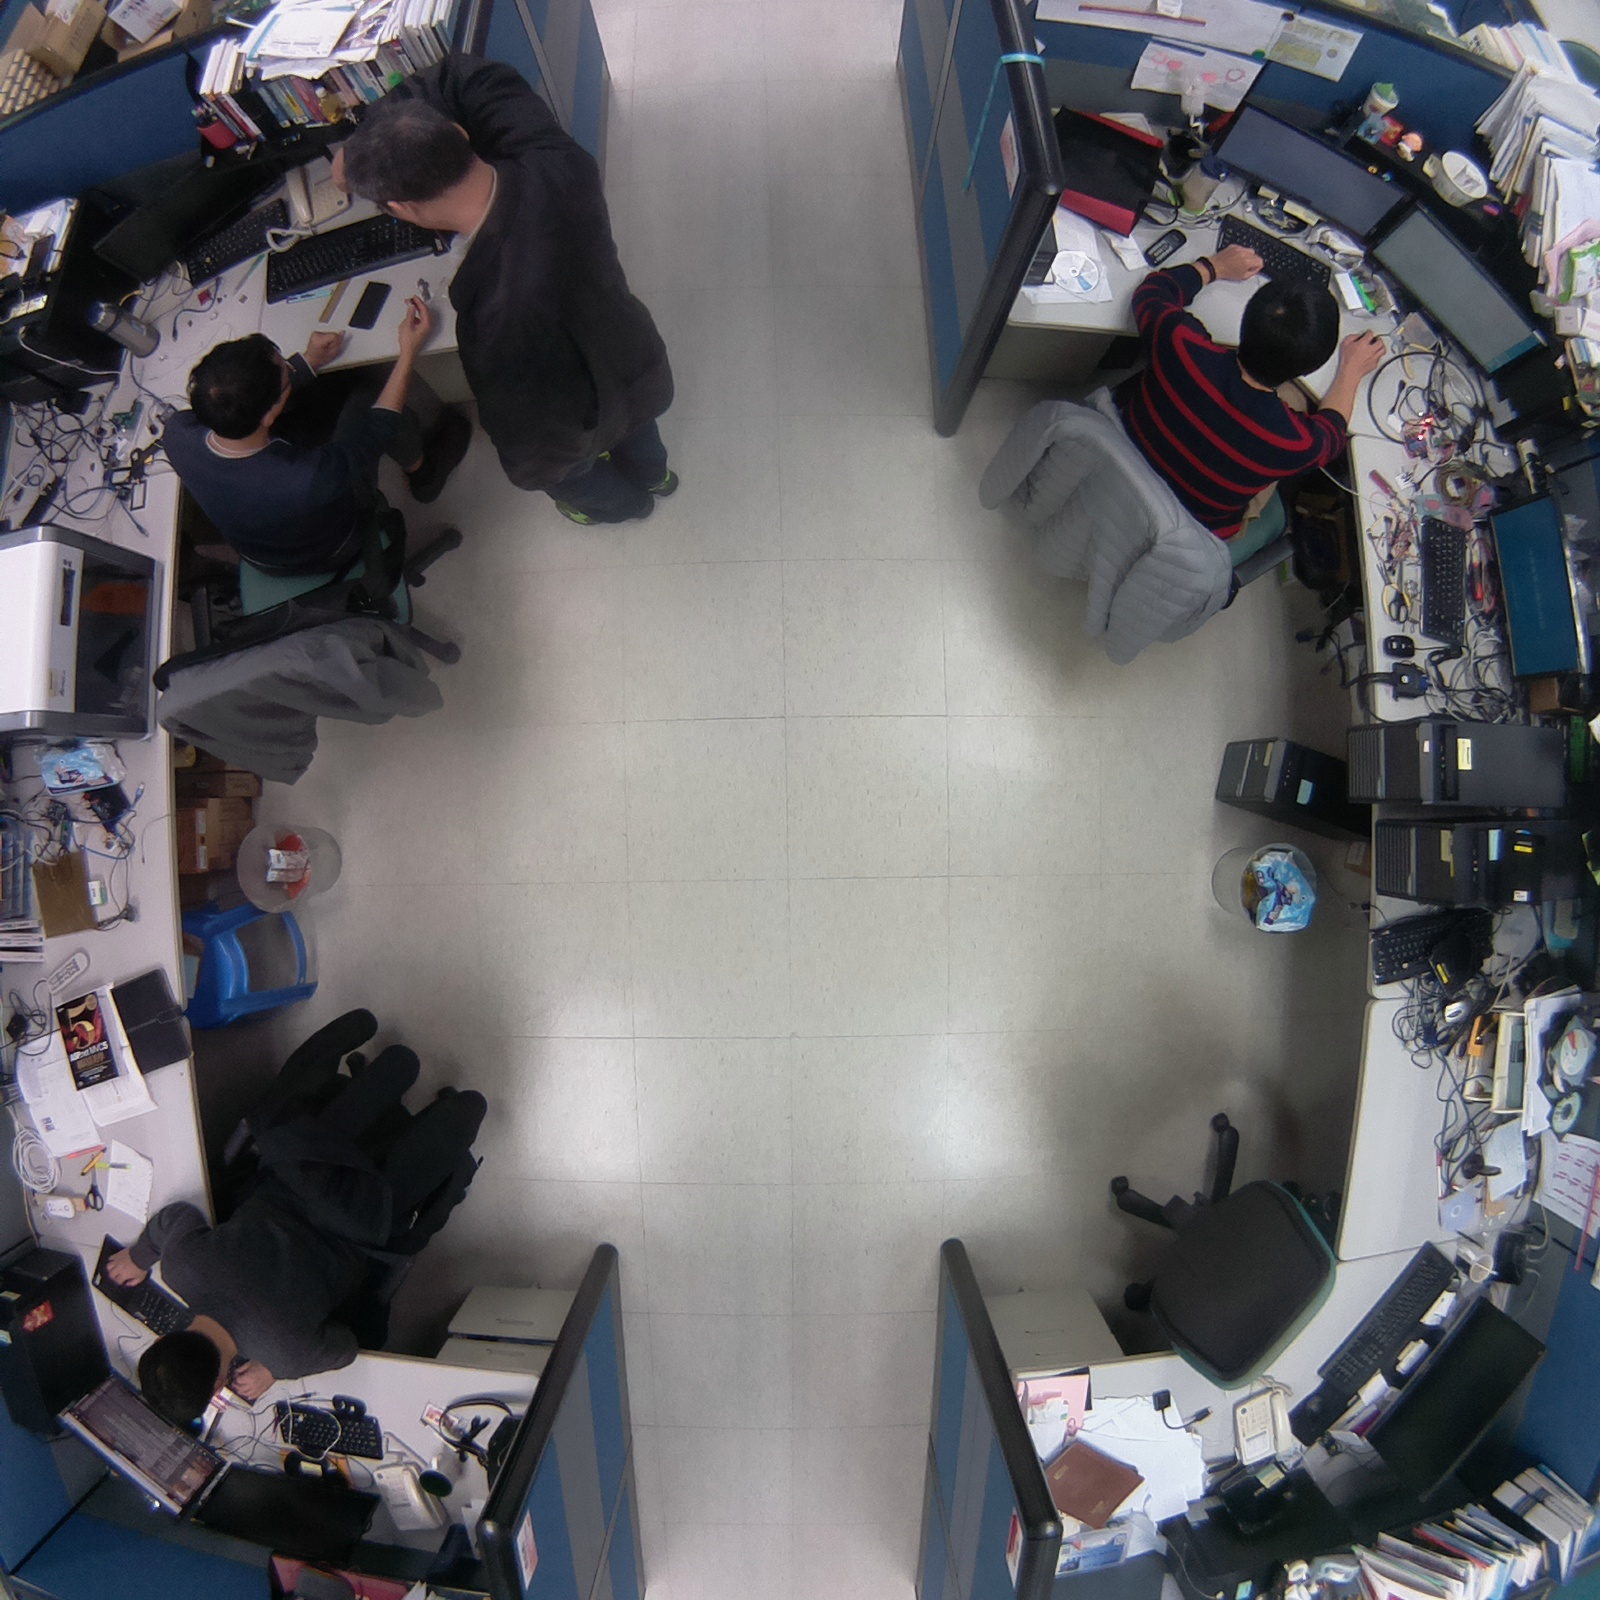chair: (1083, 1088, 1347, 1406)
head: (334, 95, 489, 227), (1227, 268, 1349, 393), (178, 323, 300, 444), (132, 1320, 232, 1433)
sitting: (968, 234, 1375, 675), (96, 991, 499, 1420), (135, 317, 491, 793)
standing: (324, 58, 707, 538)
